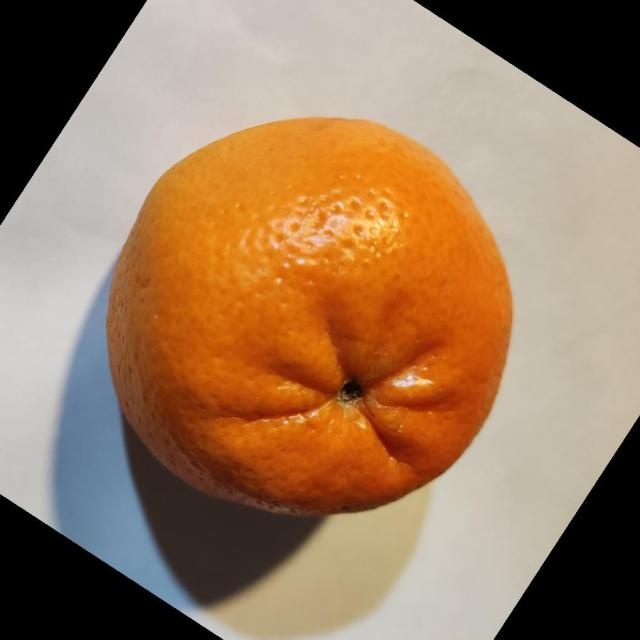agrume: (105, 115, 514, 517)
